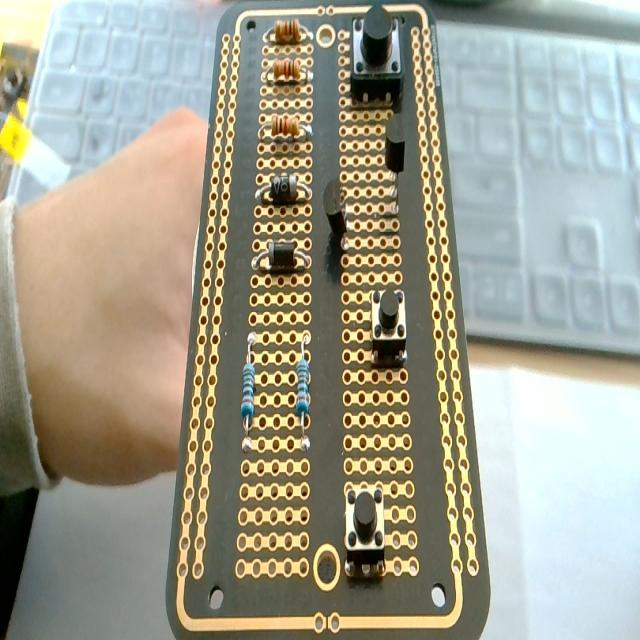diode: (252, 240, 310, 274), (257, 174, 310, 205)
resistor: (239, 331, 257, 452), (294, 333, 312, 449), (256, 114, 314, 146), (263, 22, 313, 47), (262, 56, 309, 82)
switch: (348, 4, 405, 107), (344, 483, 386, 579), (370, 287, 407, 367)
transistor: (382, 117, 406, 209), (324, 173, 351, 250)
